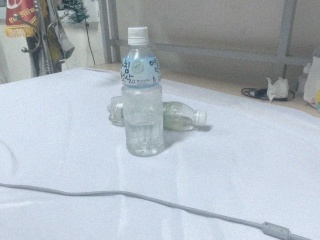bottle: (117, 24, 166, 158), (162, 101, 209, 134)
